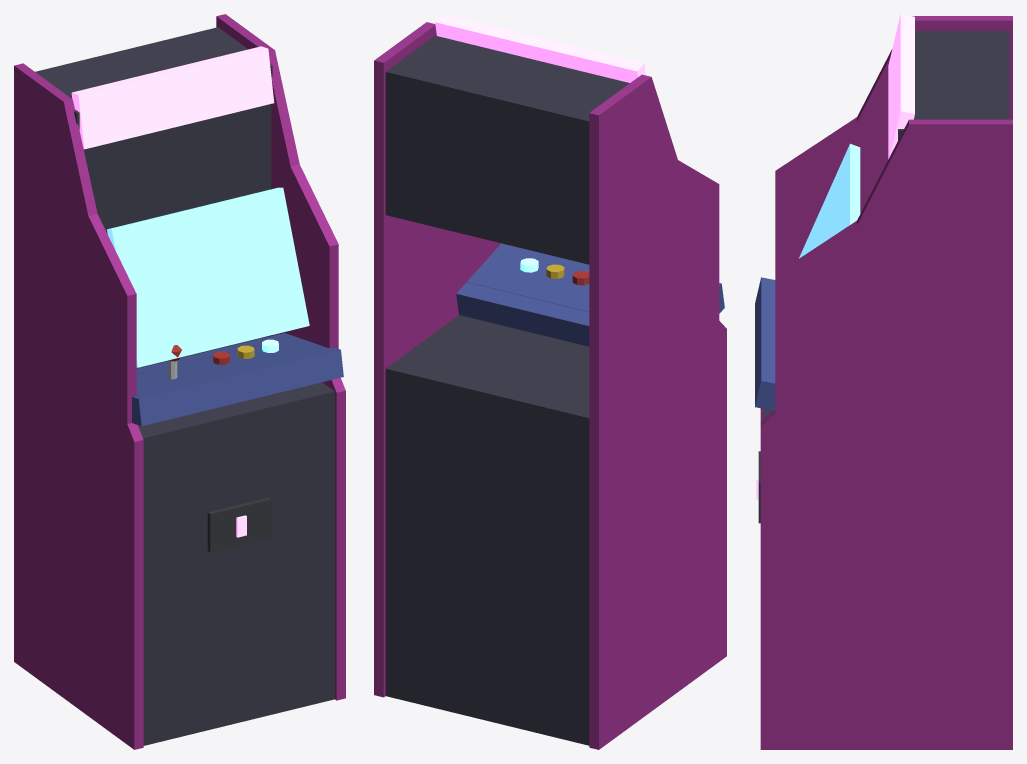
File: arcade_cabinet.glb
3 views of the same model, side by side, from view 1: azimuth 30°, elevation 25°; view 2: azimuth 150°, elevation 25°; view 3: azimuth 270°, elevation 25° (orthographic). The views are drawn at different scales.
Parts seen in each view (by area): view 1: arcade_cabinet; view 2: arcade_cabinet; view 3: arcade_cabinet.
Part boxes in pixels (<box>): arcade_cabinet: <box>14,14,345,749</box>; arcade_cabinet: <box>374,14,726,749</box>; arcade_cabinet: <box>755,14,1012,749</box>.
Bounding box in the file's own units: 0.69 × 1.88 × 0.695.
